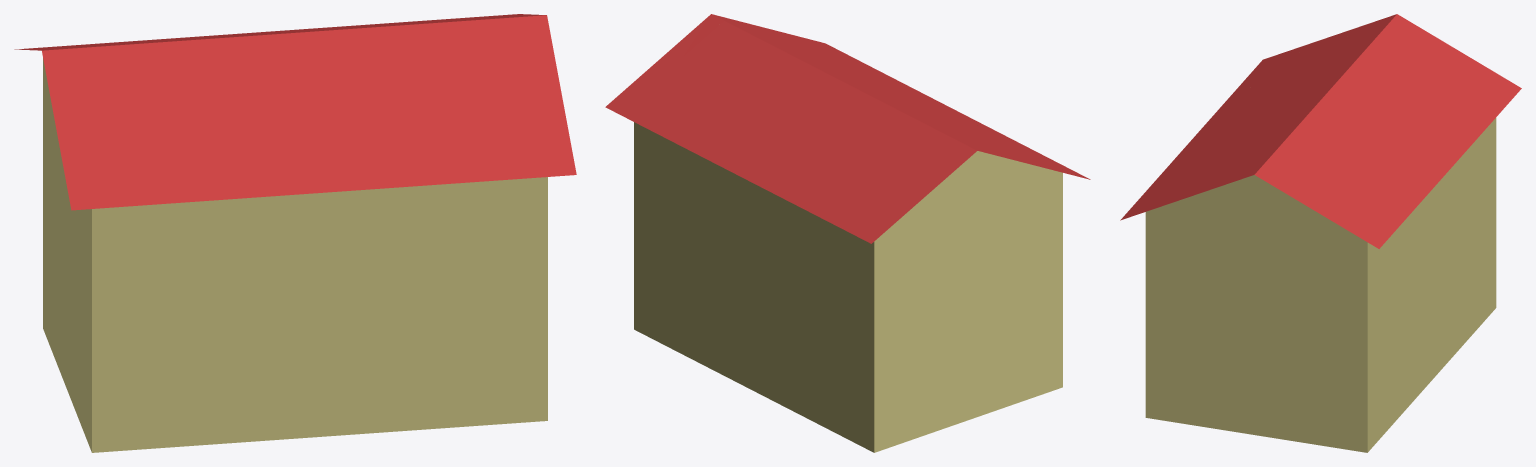
The picture shows the model from 3 angles, left to right: view 1: azimuth 30°, elevation 25°; view 2: azimuth 150°, elevation 25°; view 3: azimuth 270°, elevation 25°; orthographic projection. The views are drawn at different scales.
Visible parts, largest first — view 1: group_5, group_3, group_4; view 2: group_5, group_3, group_4; view 3: group_5, group_3, group_4.
Boxes of the visible parts, x1,y1,x2,y2 form: group_5: [43, 58, 547, 452]; group_3: [14, 14, 576, 210]; group_4: [42, 15, 573, 210]; group_5: [634, 122, 1062, 452]; group_3: [605, 14, 1061, 243]; group_4: [684, 14, 1090, 179]; group_5: [1145, 117, 1496, 452]; group_3: [1120, 14, 1521, 248]; group_4: [1122, 14, 1396, 218].
Bounding box in the file's own units: 18.05 × 15.19 × 11.22.
